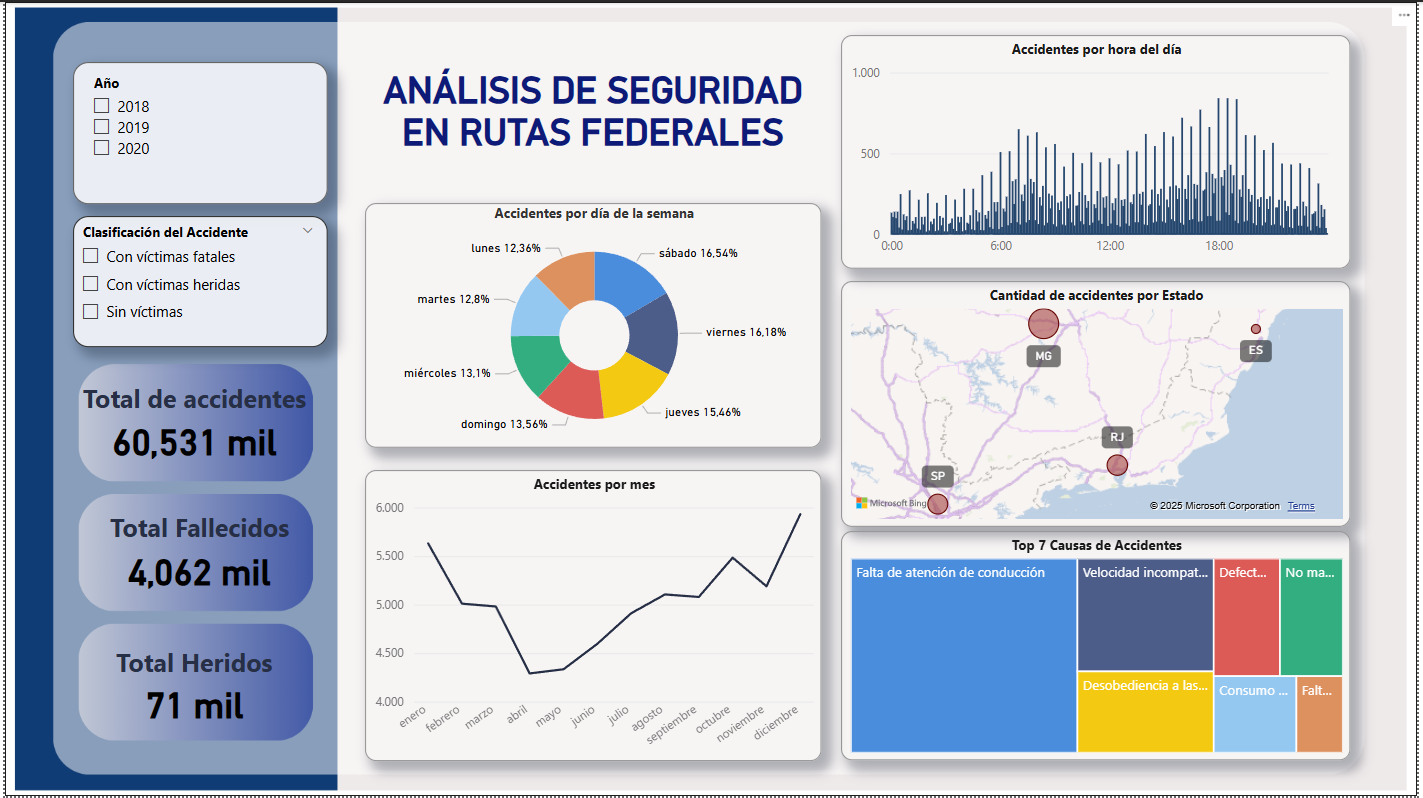

What the dashboard file says about the page in this screenshot:
{"tool":"powerbi","page":{"name":"Página 1","canvas":[1280,720],"ordinal":0},"visuals":[{"type":"image","box":[0,0,1280,720],"z":0},{"type":"card","title":"Total de accidentes","fields":{"Values":["CountNonNull(registro_acidente.id)"]},"box":[65.4,344.6,213.1,70],"z":1000},{"type":"card","title":"Total Heridos","fields":{"Values":["Sum(registro_acidente.Heridos)"]},"box":[84.6,583.8,174.6,72.3],"z":2000},{"type":"card","title":"Total Fallecidos","fields":{"Values":["Sum(registro_acidente.Muertos)"]},"box":[84.3,461.4,184.3,77.1],"z":3000},{"type":"slicer","fields":{"Values":["registro_acidente.Fecha.Variación.Jerarquía de fechas.Año"]},"box":[61.4,54.3,231.4,128.6],"z":4000},{"type":"columnChart","title":"Accidentes por hora del día","fields":{"Y":["CountNonNull(registro_acidente.id)"],"Category":["registro_acidente.hora"]},"box":[758.3,30,461.7,211.7],"z":5000},{"type":"donutChart","title":"Accidentes por día de la semana","fields":{"Category":["registro_acidente.Día de la semana"],"Y":["CountNonNull(registro_acidente.clasificación_accidente)"]},"box":[326,182,414,222],"z":6000},{"type":"map","title":"Cantidad de accidentes por Estado","fields":{"Y":["Avg(registro_acidente.latitude)"],"X":["Avg(registro_acidente.longitude)"],"Size":["CountNonNull(registro_acidente.id)"],"Category":["registro_acidente.uf"]},"box":[758.3,253.3,461.7,223.3],"z":7000},{"type":"treemap","title":"Top 7 Causas de Accidentes","fields":{"Values":["CountNonNull(registro_acidente.id)"],"Group":["registro_acidente.causa_accidente"]},"box":[758,480,462,208],"z":8000},{"type":"slicer","fields":{"Values":["registro_acidente.clasificación_accidente"]},"box":[61.4,194.3,231.4,118.6],"z":9000},{"type":"lineChart","title":"Accidentes por mes","fields":{"Category":["registro_acidente.Fecha.Variación.Jerarquía de fechas.Mes"],"Y":["CountNonNull(registro_acidente.id)"]},"box":[326,424,414,264],"z":10000},{"type":"textbox","box":[326.7,55,413.3,98.3],"z":11000}]}

Visuals, with their boxes in screenshot pixels (x1, y1, x2, y2), scaled from the page's 1280x720 canvas onto the 1423x798 screenshot:
image: [0,0,1422,797]
"Total de accidentes" card: [73,382,310,460]
"Total Heridos" card: [94,647,288,727]
"Total Fallecidos" card: [94,511,299,597]
slicer - registro_acidente.Fecha.Variación.Jerarquía de fechas.Año: [68,60,326,203]
"Accidentes por hora del día" columnChart: [843,33,1356,268]
"Accidentes por día de la semana" donutChart: [362,202,823,448]
"Cantidad de accidentes por Estado" map: [843,281,1356,528]
"Top 7 Causas de Accidentes" treemap: [843,532,1356,763]
slicer - registro_acidente.clasificación_accidente: [68,215,326,347]
"Accidentes por mes" lineChart: [362,470,823,763]
textbox: [363,61,823,170]
